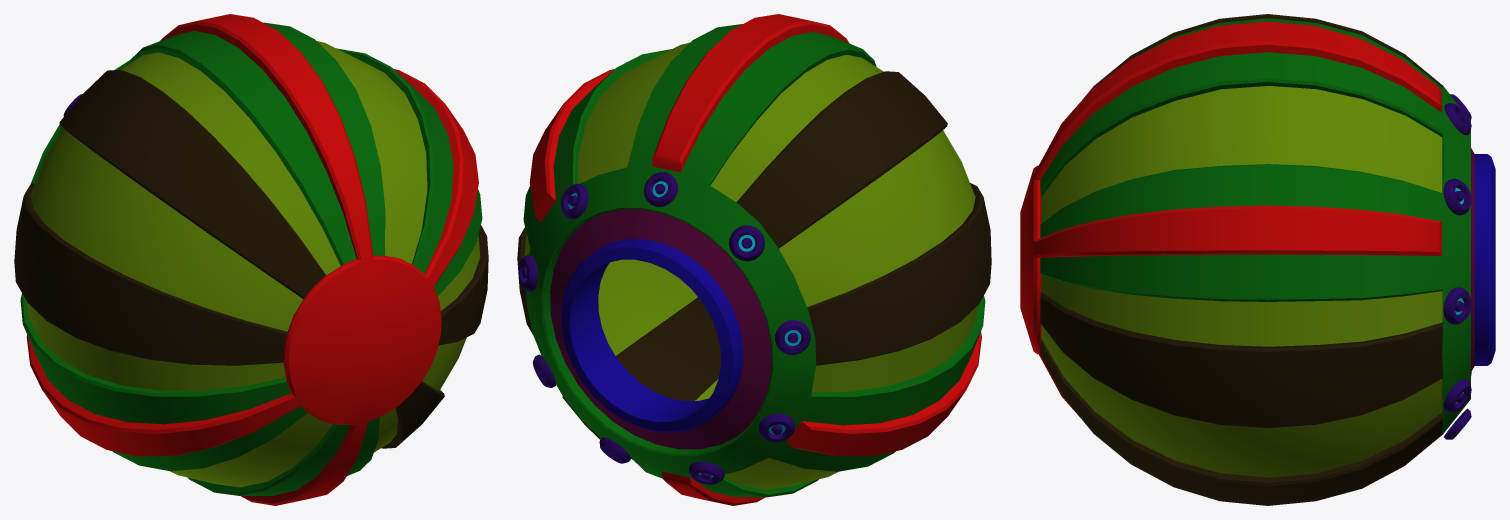
File: OBJ_Corp.fbx
3 views of the same model, side by side, from view 1: azimuth 30°, elevation 25°; view 2: azimuth 150°, elevation 25°; view 3: azimuth 270°, elevation 25° (orthographic). The views are drawn at different scales.
Visible parts, largest first — view 1: OBJ_Corp; view 2: OBJ_Corp; view 3: OBJ_Corp.
Part boxes in pixels (x1,y1,x2,y2): OBJ_Corp: (14,14,488,505); OBJ_Corp: (517,14,991,505); OBJ_Corp: (1020,14,1495,505).
Size of the model in its own units: 10.05 by 10.52 by 9.72.
